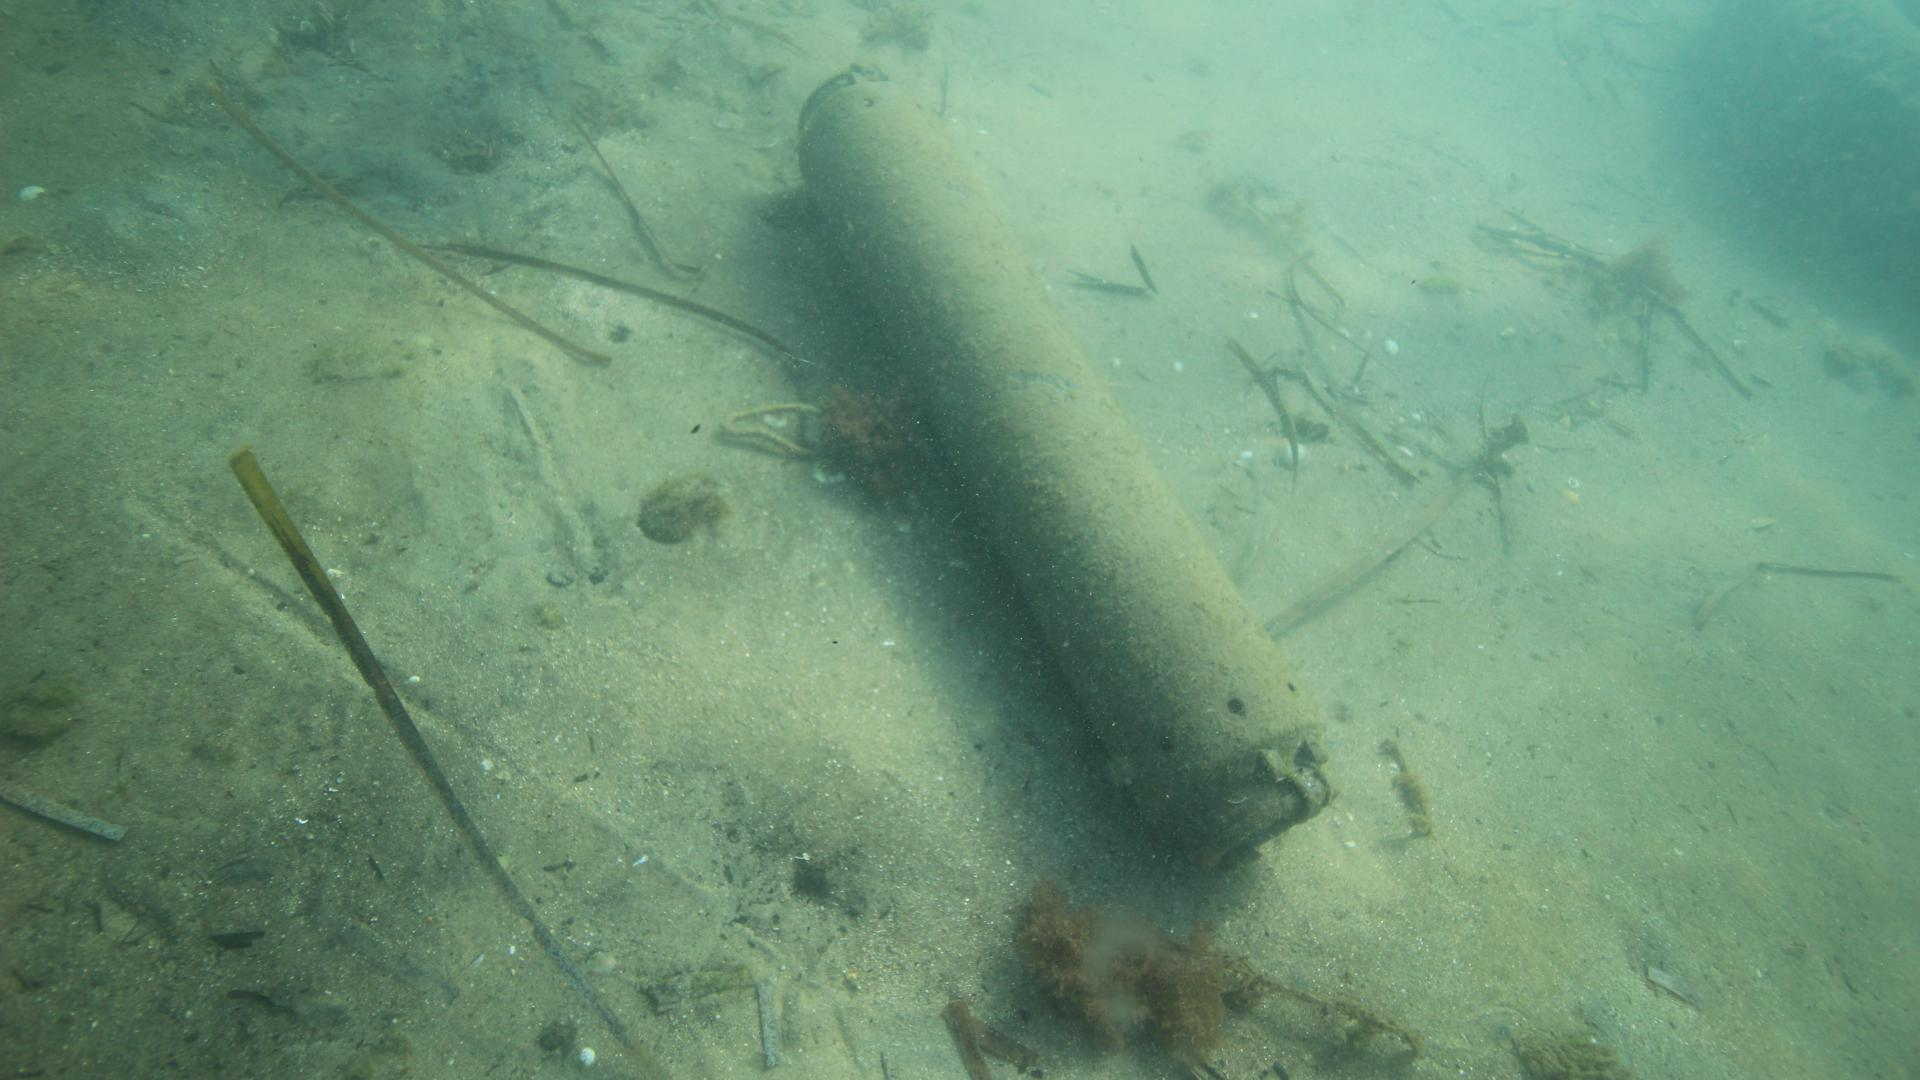eel fish trap: (790, 59, 1342, 872)
